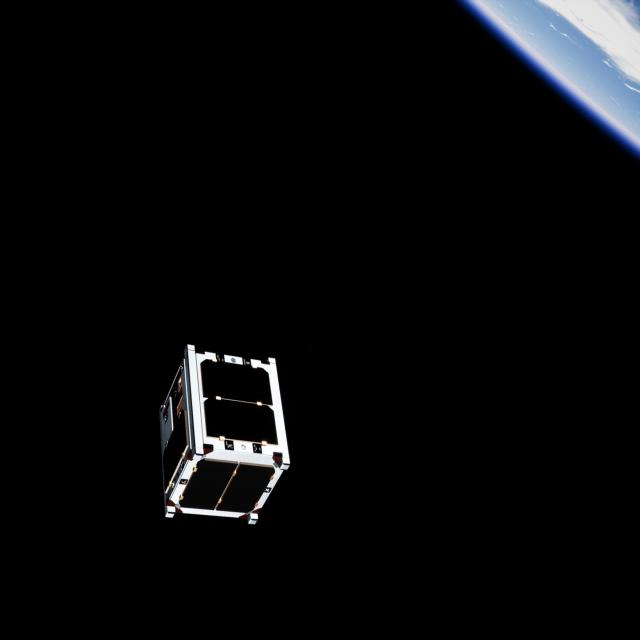satellite: (150, 338, 300, 534)
